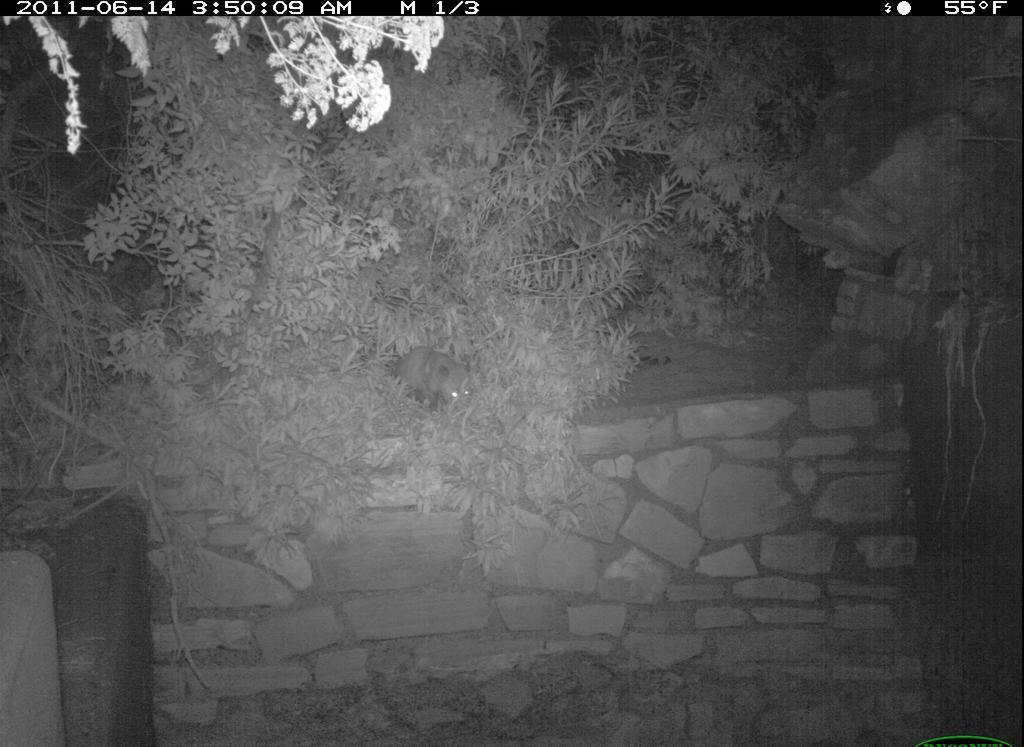opossum: (383, 346, 493, 424)
